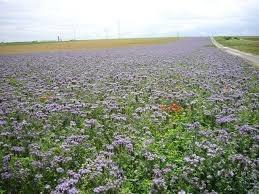field: (0, 38, 258, 193)
